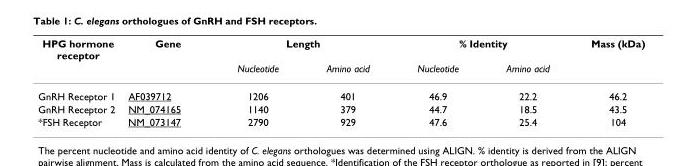table: (37, 36, 644, 127)
table column: (208, 36, 301, 127), (301, 36, 392, 127), (392, 36, 481, 127), (120, 36, 208, 127), (481, 36, 569, 127), (37, 36, 120, 127), (569, 36, 644, 127)
table column header: (37, 36, 644, 81)
table row: (37, 36, 644, 61), (37, 81, 644, 102), (37, 61, 644, 81), (37, 102, 644, 115), (37, 115, 644, 127)
table spanning cell: (208, 36, 392, 61), (392, 36, 569, 61), (120, 36, 208, 81), (37, 36, 120, 81), (569, 36, 644, 81)
